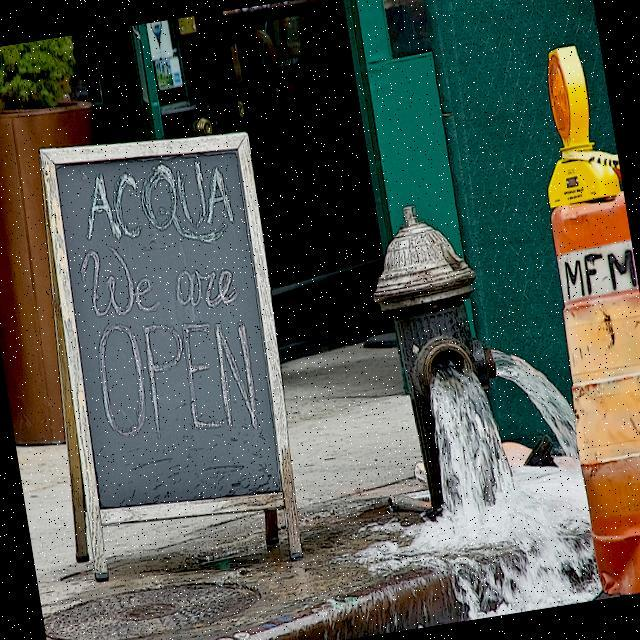fire_hydrant: (359, 194, 518, 521)
